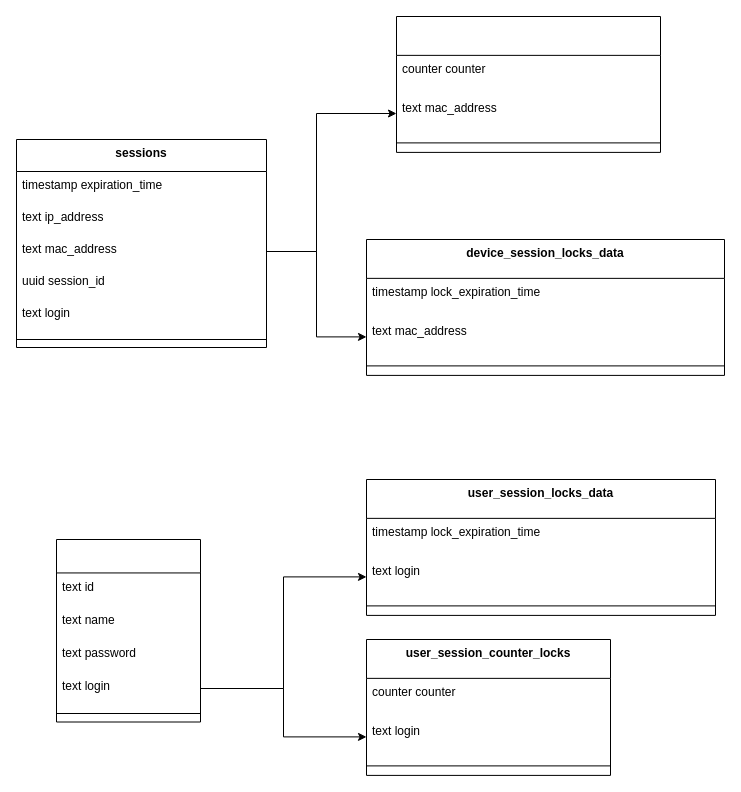
This 741x792 diagram has some shape labels left out. Each missing label, with the box of its shape:
device_session_counter_locks: (396, 16, 660, 152)
users: (56, 538, 200, 722)
